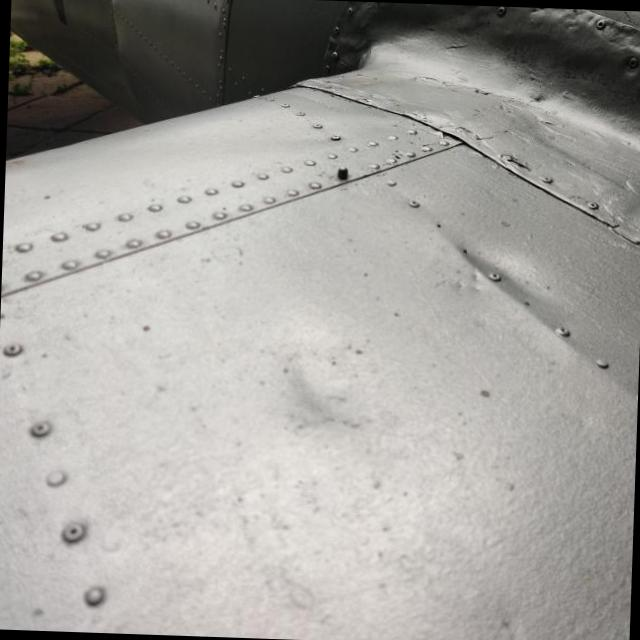Dent: (258, 305, 399, 436), (436, 206, 565, 328)
